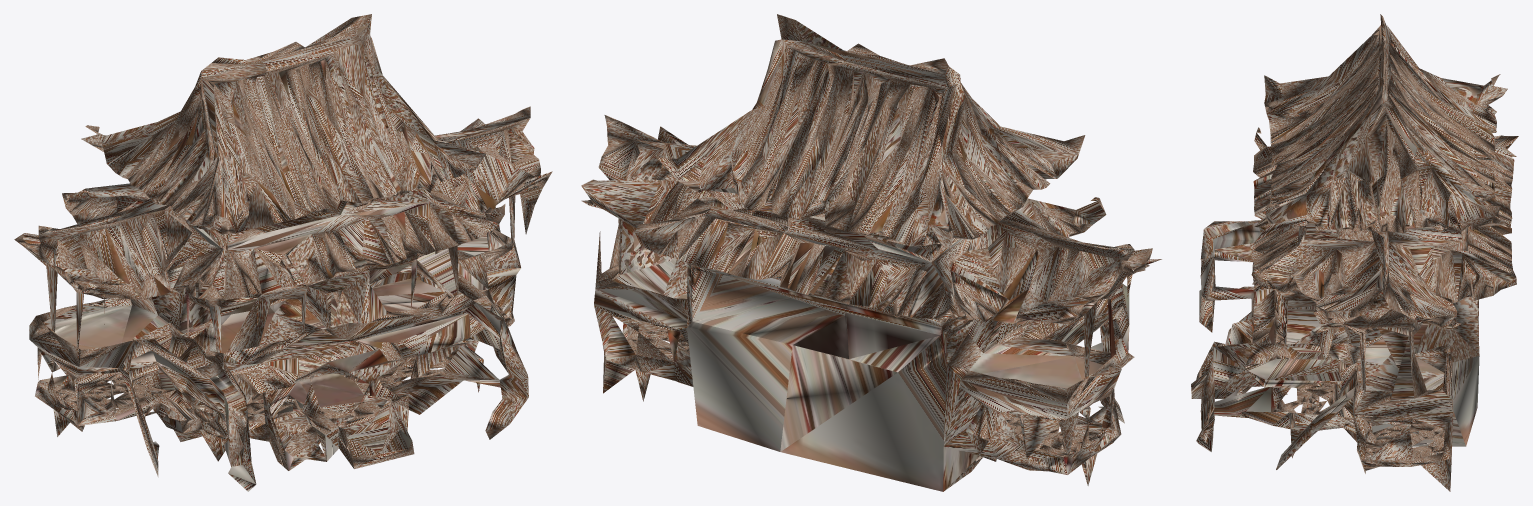
The model's file is palace_grand.far.glb.
3 renders of one model, left to right at view 1: azimuth 30°, elevation 25°; view 2: azimuth 150°, elevation 25°; view 3: azimuth 270°, elevation 25°, orthographic. The views are drawn at different scales.
Size of the model in its own units: 1.87 by 1.32 by 1.11.
1 material, 1 textured.
